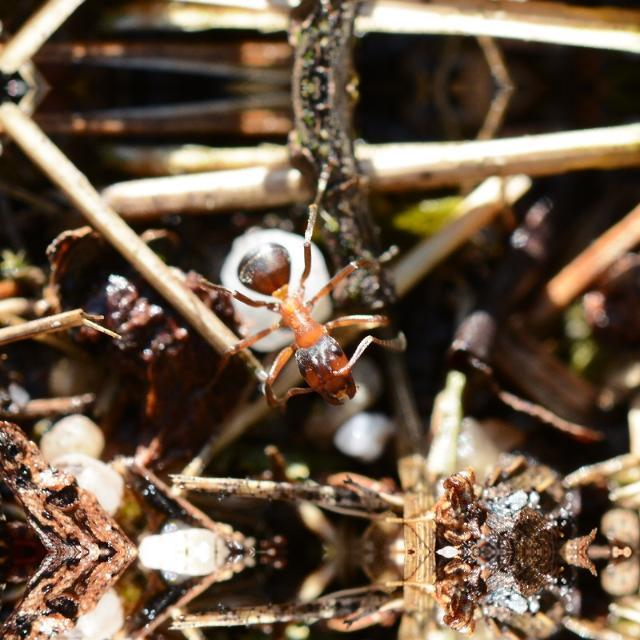Formica: (212, 218, 394, 424)
